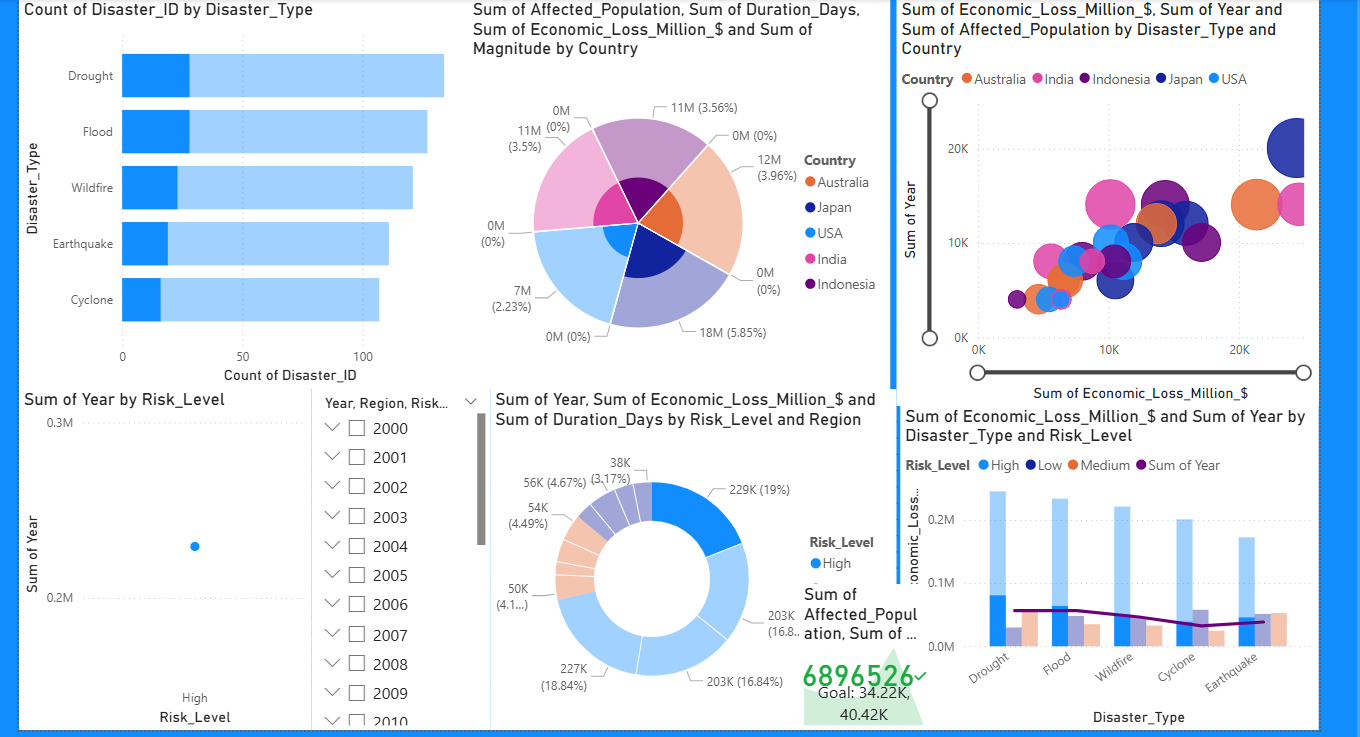

What the dashboard file says about the page in this screenshot:
{"tool":"powerbi","page":{"name":"Natural Disaster PowerBi Main Project Data Analysis and Predictions","canvas":[1280,720],"ordinal":0},"visuals":[{"type":"barChart","fields":{"Y":["CountNonNull(Natural_disaster Prediction of Data Analysis.Disaster_ID)"],"Category":["Natural_disaster Prediction of Data Analysis.Disaster_Type"]},"box":[16,0,416,384],"z":0},{"type":"lineChart","fields":{"Y":["Sum(Natural_disaster Prediction of Data Analysis.Year)"],"Category":["Natural_disaster Prediction of Data Analysis.Risk_Level"]},"box":[48,400,240,320],"z":1000},{"type":"pieChart","fields":{"Y":["Sum(Natural_disaster Prediction of Data Analysis.Affected_Population)","Sum(Natural_disaster Prediction of Data Analysis.Duration_Days)","Sum(Natural_disaster Prediction of Data Analysis.Economic_Loss_Million_$)","Sum(Natural_disaster Prediction of Data Analysis.Magnitude)"],"Category":["Natural_disaster Prediction of Data Analysis.Country","Natural_disaster Prediction of Data Analysis.Region"]},"box":[442,0,416,384],"z":2000},{"type":"donutChart","fields":{"Category":["Natural_disaster Prediction of Data Analysis.Risk_Level","Natural_disaster Prediction of Data Analysis.Country","Natural_disaster Prediction of Data Analysis.Disaster_Type"],"Y":["Sum(Natural_disaster Prediction of Data Analysis.Year)"],"Series":["Natural_disaster Prediction of Data Analysis.Region"]},"box":[464,400,394,320],"z":3000},{"type":"scatterChart","fields":{"X":["Sum(Natural_disaster Prediction of Data Analysis.Economic_Loss_Million_$)"],"Y":["Sum(Natural_disaster Prediction of Data Analysis.Year)"],"Category":["Natural_disaster Prediction of Data Analysis.Disaster_Type"],"Series":["Natural_disaster Prediction of Data Analysis.Country"],"Size":["Sum(Natural_disaster Prediction of Data Analysis.Affected_Population)"]},"box":[868,0,412,384],"z":4000},{"type":"lineClusteredColumnComboChart","fields":{"Category":["Natural_disaster Prediction of Data Analysis.Disaster_Type"],"Y":["Sum(Natural_disaster Prediction of Data Analysis.Economic_Loss_Million_$)"],"Series":["Natural_disaster Prediction of Data Analysis.Risk_Level"],"Y2":["Sum(Natural_disaster Prediction of Data Analysis.Year)"]},"box":[868,400,412,320],"z":5000},{"type":"slicer","fields":{"Values":["Natural_disaster Prediction of Data Analysis.Year","Natural_disaster Prediction of Data Analysis.Region","Natural_disaster Prediction of Data Analysis.Risk_Level","Natural_disaster Prediction of Data Analysis.Disaster_Type"]},"box":[288,416,176,304],"z":6000},{"type":"kpi","fields":{"Indicator":["Sum(Natural_disaster Prediction of Data Analysis.Affected_Population)"],"TrendLine":["Natural_disaster Prediction of Data Analysis.Country"],"Goal":["Sum(Natural_disaster Prediction of Data Analysis.Year)","Sum(Natural_disaster Prediction of Data Analysis.Economic_Loss_Million_$)"]},"box":[768,576,128,144],"z":7000}]}

Visuals, with their boxes on the page's 1280x720 design canvas (x1, y1, x2, y2). These are canvas units, not pixel positions in the 1360x737 screenshot, which may show the page scaled, cropped or inside an application window:
barChart - CountNonNull(Natural_disaster Prediction of Data Analysis.Disaster_ID) x Natural_disaster Prediction of Data Analysis.Disaster_Type: {"left": 16, "top": 0, "right": 432, "bottom": 384}
lineChart - Sum(Natural_disaster Prediction of Data Analysis.Year) x Natural_disaster Prediction of Data Analysis.Risk_Level: {"left": 48, "top": 400, "right": 288, "bottom": 720}
pieChart - Sum(Natural_disaster Prediction of Data Analysis.Affected_Population) x Sum(Natural_disaster Prediction of Data Analysis.Duration_Days): {"left": 442, "top": 0, "right": 858, "bottom": 384}
donutChart - Natural_disaster Prediction of Data Analysis.Risk_Level x Natural_disaster Prediction of Data Analysis.Country: {"left": 464, "top": 400, "right": 858, "bottom": 720}
scatterChart - Sum(Natural_disaster Prediction of Data Analysis.Economic_Loss_Million_$) x Sum(Natural_disaster Prediction of Data Analysis.Year): {"left": 868, "top": 0, "right": 1280, "bottom": 384}
lineClusteredColumnComboChart - Natural_disaster Prediction of Data Analysis.Disaster_Type x Sum(Natural_disaster Prediction of Data Analysis.Economic_Loss_Million_$): {"left": 868, "top": 400, "right": 1280, "bottom": 720}
slicer - Natural_disaster Prediction of Data Analysis.Year x Natural_disaster Prediction of Data Analysis.Region: {"left": 288, "top": 416, "right": 464, "bottom": 720}
kpi - Sum(Natural_disaster Prediction of Data Analysis.Affected_Population) x Natural_disaster Prediction of Data Analysis.Country: {"left": 768, "top": 576, "right": 896, "bottom": 720}
